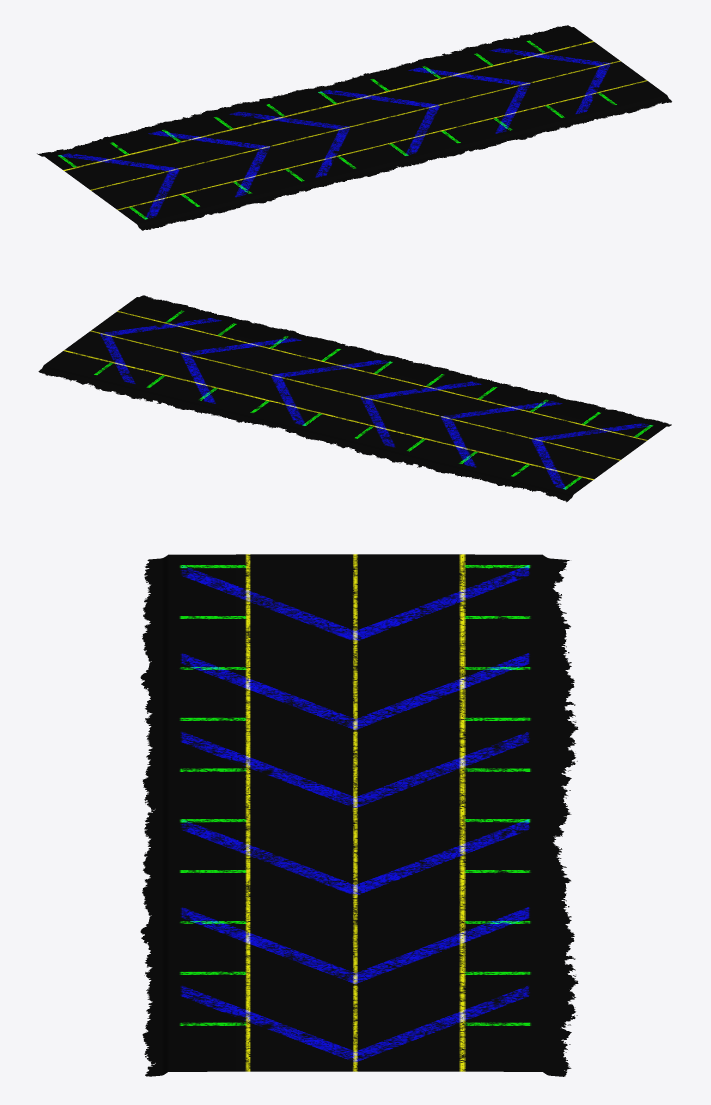
File: SM_Runway_1_Stopway_1.fbx
3 views of the same model, one above another, from view 1: azimuth 30°, elevation 25°; view 2: azimuth 150°, elevation 25°; view 3: azimuth 270°, elevation 25° (orthographic). The views are drawn at different scales.
Parts seen in each view (by area): view 1: SM_Runway_1_Stopway_1_LOD0; view 2: SM_Runway_1_Stopway_1_LOD0; view 3: SM_Runway_1_Stopway_1_LOD0.
Part boxes in pixels (x1,y1,x2,y2): SM_Runway_1_Stopway_1_LOD0: (37, 25, 671, 230); SM_Runway_1_Stopway_1_LOD0: (38, 295, 671, 502); SM_Runway_1_Stopway_1_LOD0: (140, 554, 578, 1076).
Bounding box in the file's own units: 10000 × 5000 × 169.
Materials: 1 (1 with a texture image).
